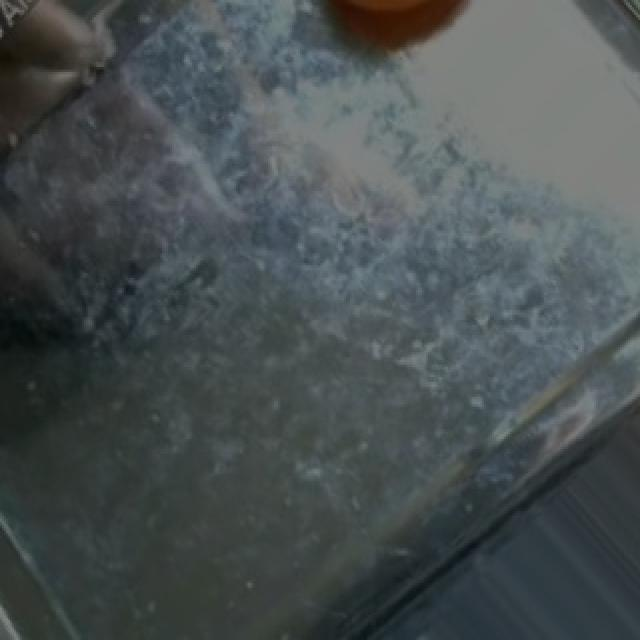Fruit: (292, 0, 522, 57)
